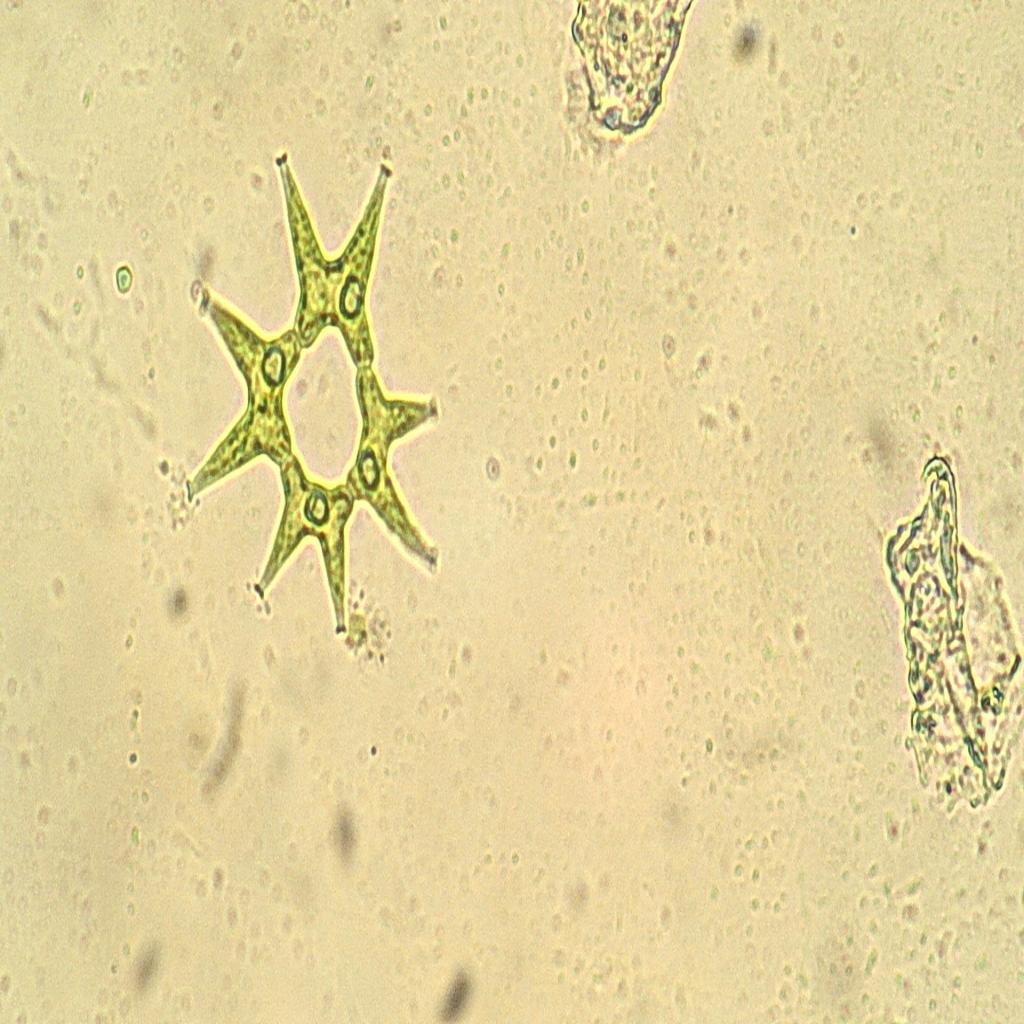Pediastrum_75O: (171, 134, 457, 653)
